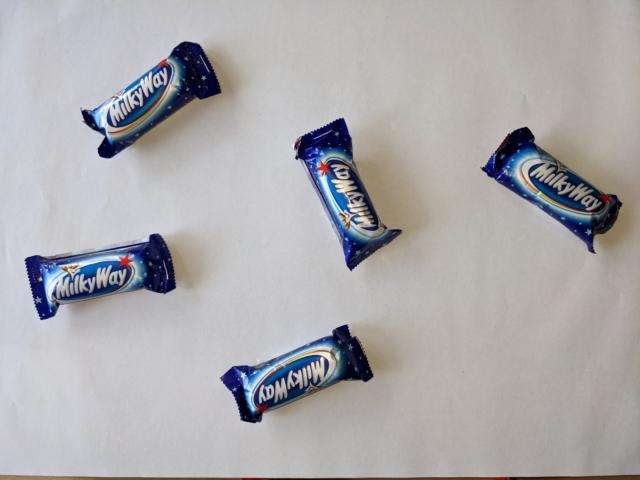MilkyWay: (478, 125, 624, 256), (291, 116, 404, 273), (77, 40, 223, 161), (217, 324, 375, 426), (23, 231, 179, 322)
